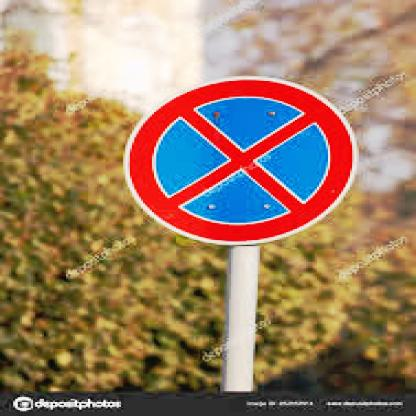No stopping: (111, 73, 355, 250)
